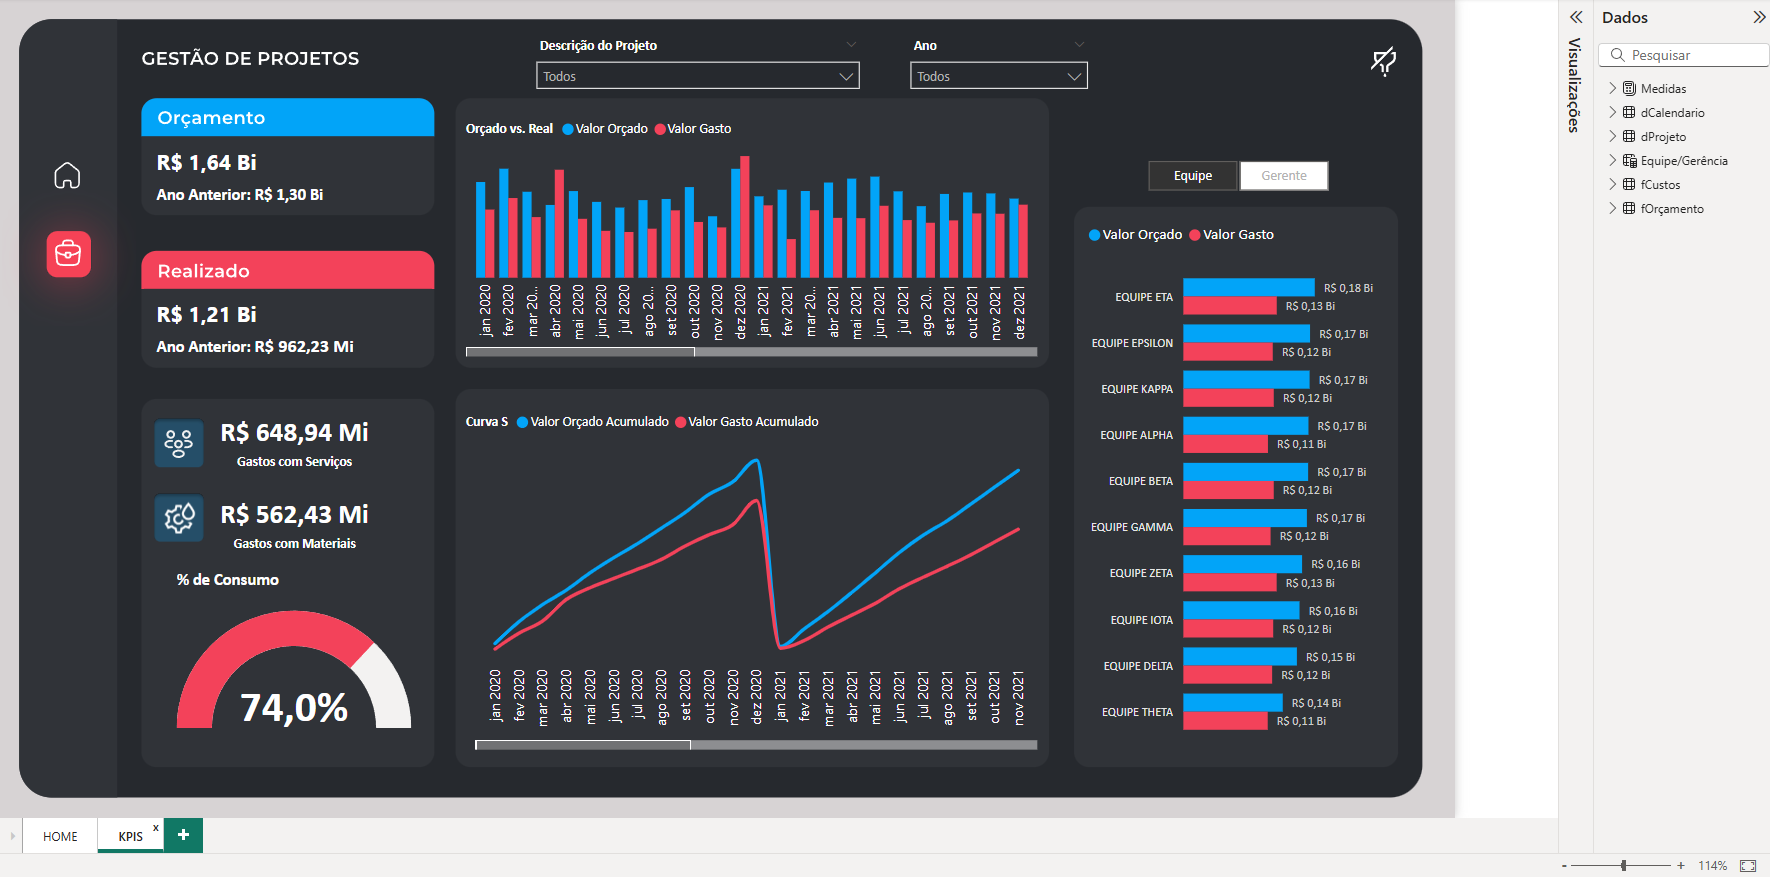

The dashboard page shown, as its layout file describes it:
{"tool":"powerbi","page":{"name":"KPIS","canvas":[1280,720],"ordinal":1},"visuals":[{"type":"lineChart","fields":{"Y":["Curva S.Valor Orçado YTD","Curva S.Valor Gasto YTD"],"Category":["dCalendario.Mês Ano"]},"box":[405.7,353,511.9,311.7],"z":0},{"type":"slicer","fields":{"Values":["dCalendario.ANO ATUAL"]},"box":[791.1,30,176,64],"z":1000},{"type":"clusteredColumnChart","fields":{"Y":["Medidas.Valor Orçado","Medidas.Valor Gasto"],"Category":["dCalendario.Mês Ano"]},"box":[405.7,95.7,511.9,223.9],"z":2000},{"type":"slicer","fields":{"Values":["dProjeto.Descrição"]},"box":[463.1,30,304,64],"z":3000},{"type":"clusteredBarChart","fields":{"Category":["dProjeto.Equipe"],"Y":["Medidas.Valor Orçado","Medidas.Valor Gasto"]},"box":[951.8,187.9,272.2,476.8],"z":4000},{"type":"slicer","fields":{"Values":["Equipe/Gerência.Equipe/Gerência"]},"box":[984,136,208,40],"z":5000},{"type":"cardVisual","fields":{"Data":["Medidas.Valor Orçado"]},"box":[128,104,256,96],"z":6000},{"type":"cardVisual","fields":{"Data":["Medidas.Valor Gasto"]},"box":[128.2,229.2,247.6,112.4],"z":7000},{"type":"card","fields":{"Values":["Medidas.Gastos com Serviços"]},"box":[184.4,355.5,152,64],"z":8000},{"type":"card","fields":{"Values":["Medidas.Gastos com Materiais"]},"box":[184.4,427.5,152,64],"z":9000},{"type":"gauge","fields":{"Y":["Medidas.% de Consumo"]},"box":[151.9,501.4,216,163.3],"z":10000},{"type":"actionButton","box":[36.9,197.6,50.9,54.4],"z":11000},{"type":"actionButton","box":[36.9,130,50.9,54.4],"z":12000},{"type":"actionButton","box":[1200.3,36,36,40.4],"z":13000}]}

Visuals, with their boxes on the page's 1280x720 design canvas (x1, y1, x2, y2). These are canvas units, not pixel positions in the 1770x877 screenshot, which may show the page scaled, cropped or inside an application window:
lineChart - Curva S.Valor Orçado YTD x Curva S.Valor Gasto YTD: (x1=406, y1=353, x2=918, y2=665)
slicer - dCalendario.ANO ATUAL: (x1=791, y1=30, x2=967, y2=94)
clusteredColumnChart - Medidas.Valor Orçado x Medidas.Valor Gasto: (x1=406, y1=96, x2=918, y2=320)
slicer - dProjeto.Descrição: (x1=463, y1=30, x2=767, y2=94)
clusteredBarChart - dProjeto.Equipe x Medidas.Valor Orçado: (x1=952, y1=188, x2=1224, y2=665)
slicer - Equipe/Gerência.Equipe/Gerência: (x1=984, y1=136, x2=1192, y2=176)
cardVisual - Medidas.Valor Orçado: (x1=128, y1=104, x2=384, y2=200)
cardVisual - Medidas.Valor Gasto: (x1=128, y1=229, x2=376, y2=342)
card - Medidas.Gastos com Serviços: (x1=184, y1=356, x2=336, y2=420)
card - Medidas.Gastos com Materiais: (x1=184, y1=428, x2=336, y2=492)
gauge - Medidas.% de Consumo: (x1=152, y1=501, x2=368, y2=665)
actionButton: (x1=37, y1=198, x2=88, y2=252)
actionButton: (x1=37, y1=130, x2=88, y2=184)
actionButton: (x1=1200, y1=36, x2=1236, y2=76)
